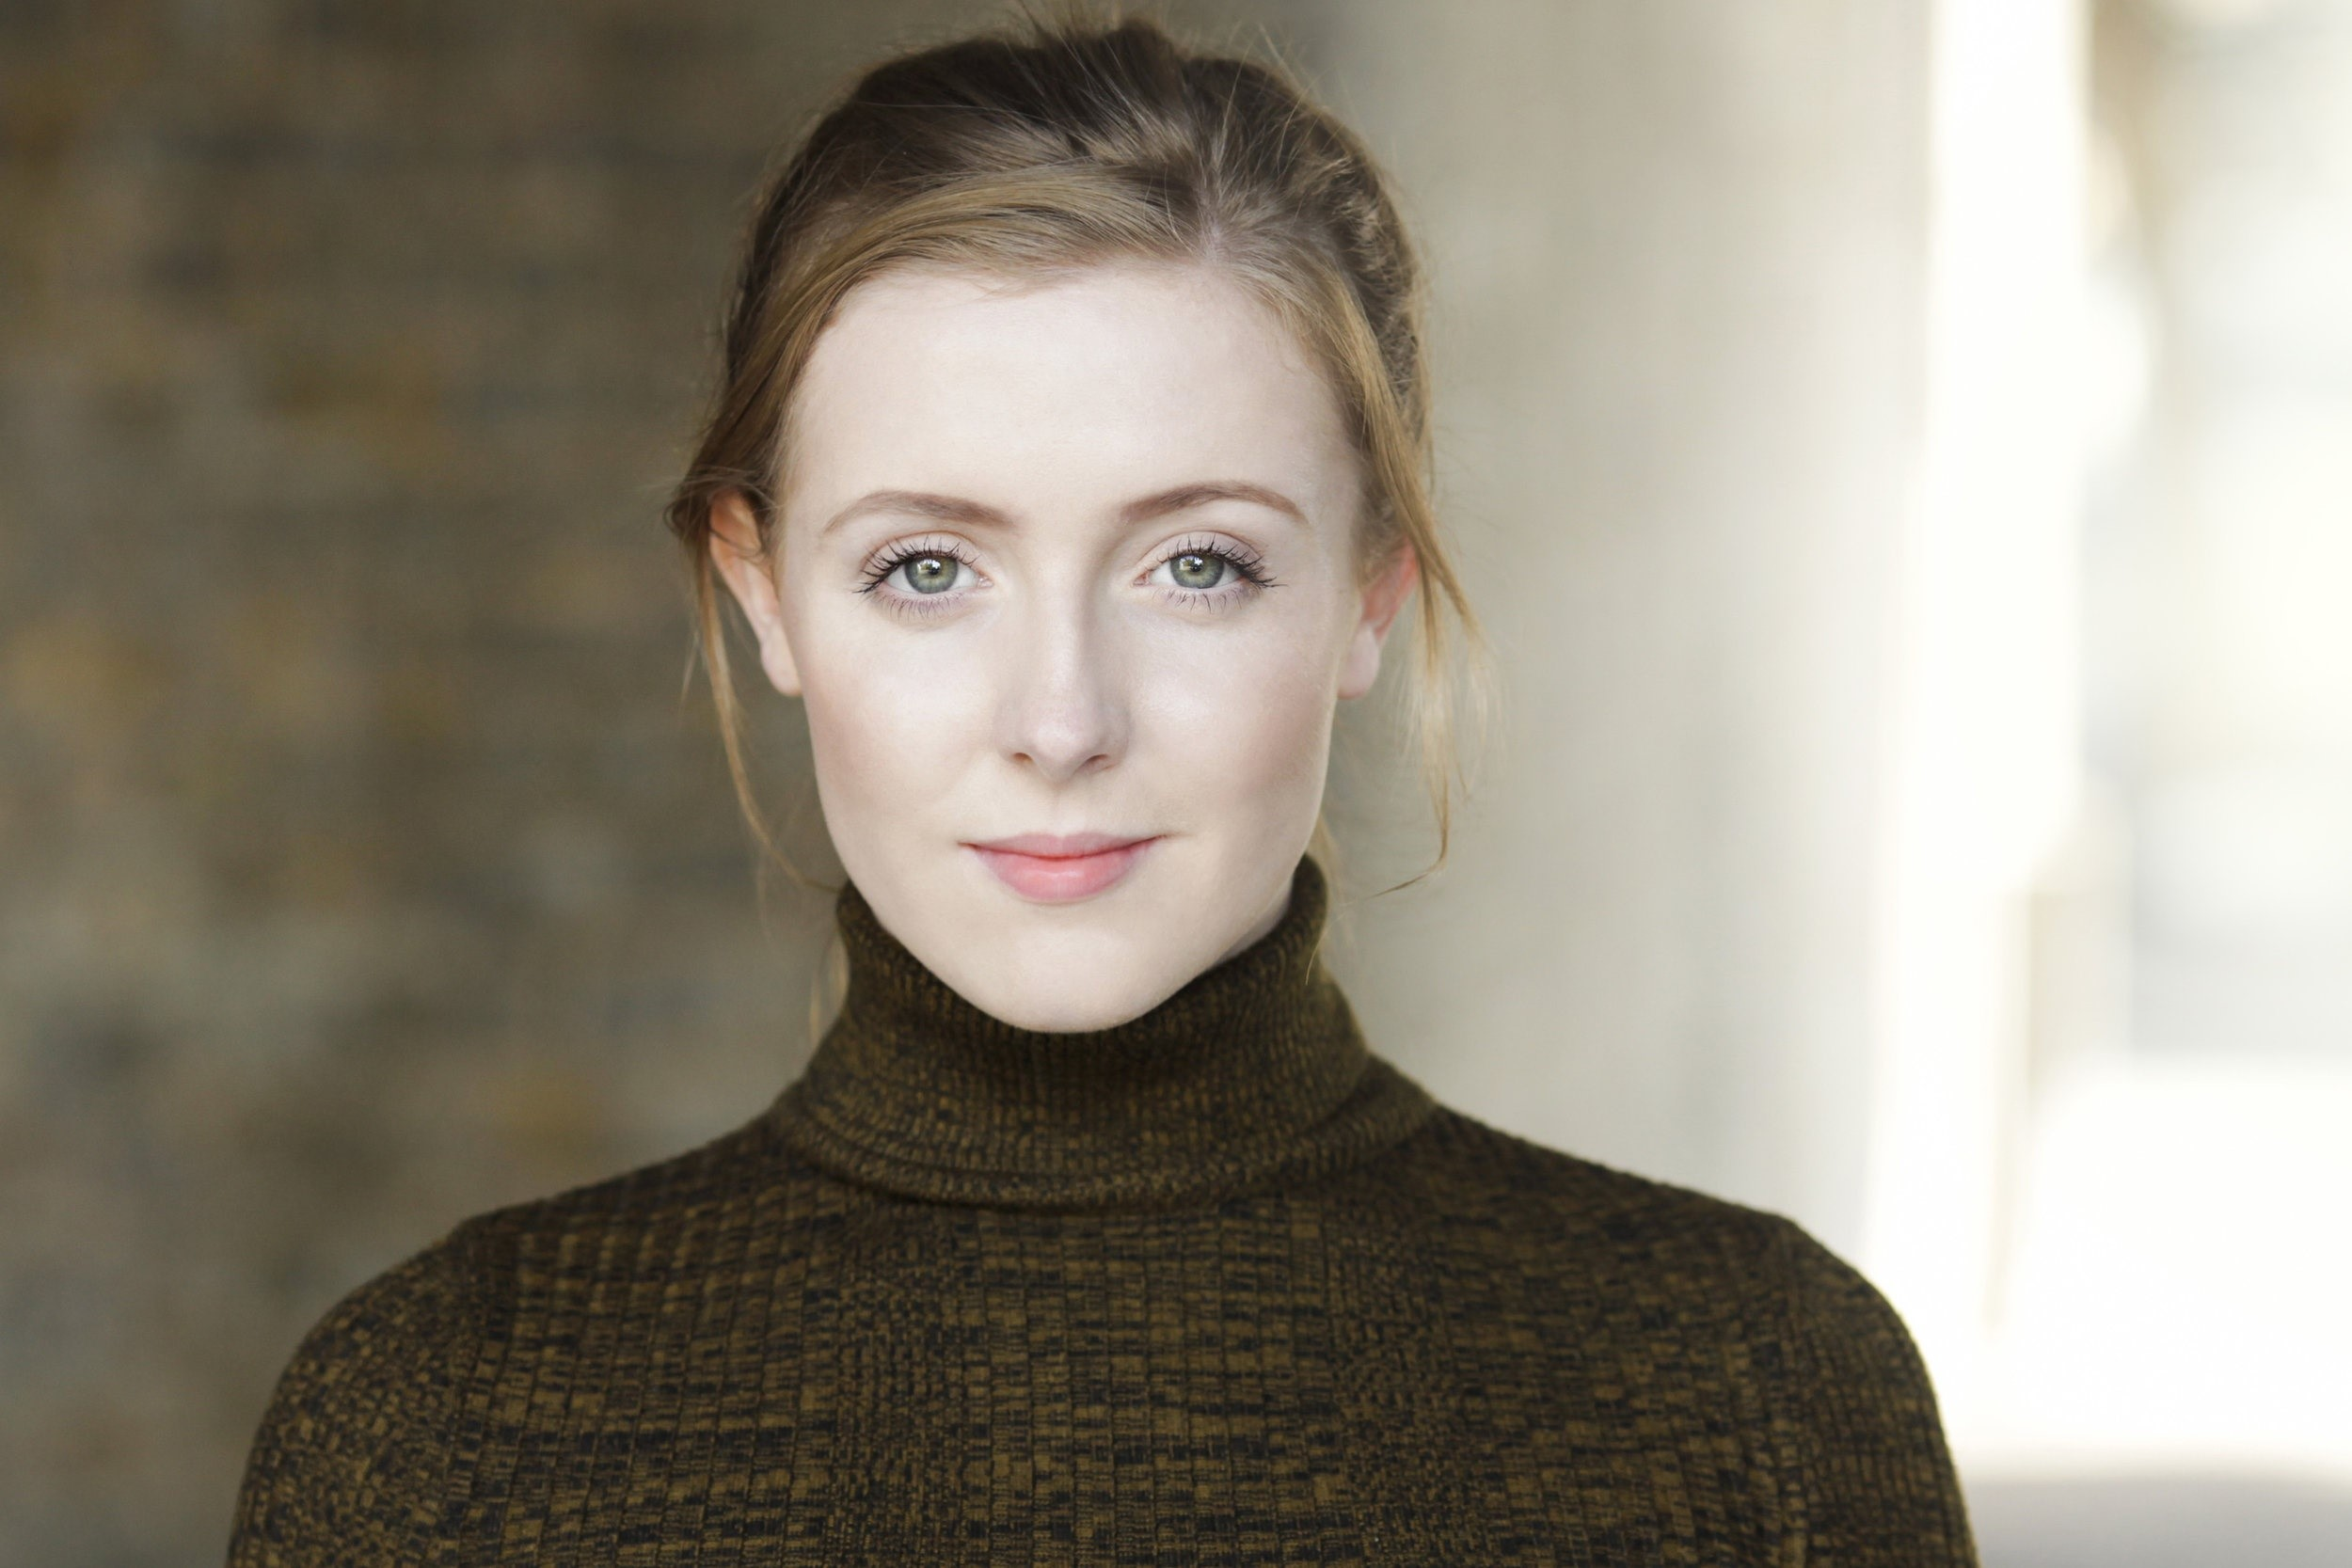face_no_mask: (723, 40, 1470, 1049)
